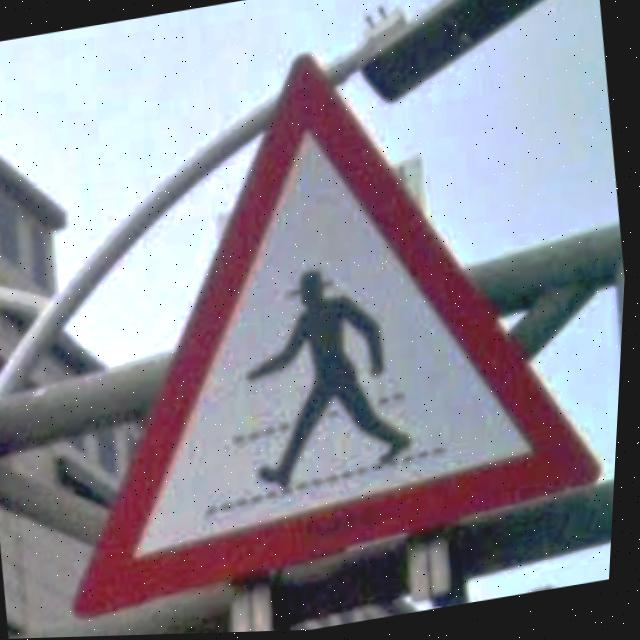pedestriancross: (79, 56, 608, 622)
